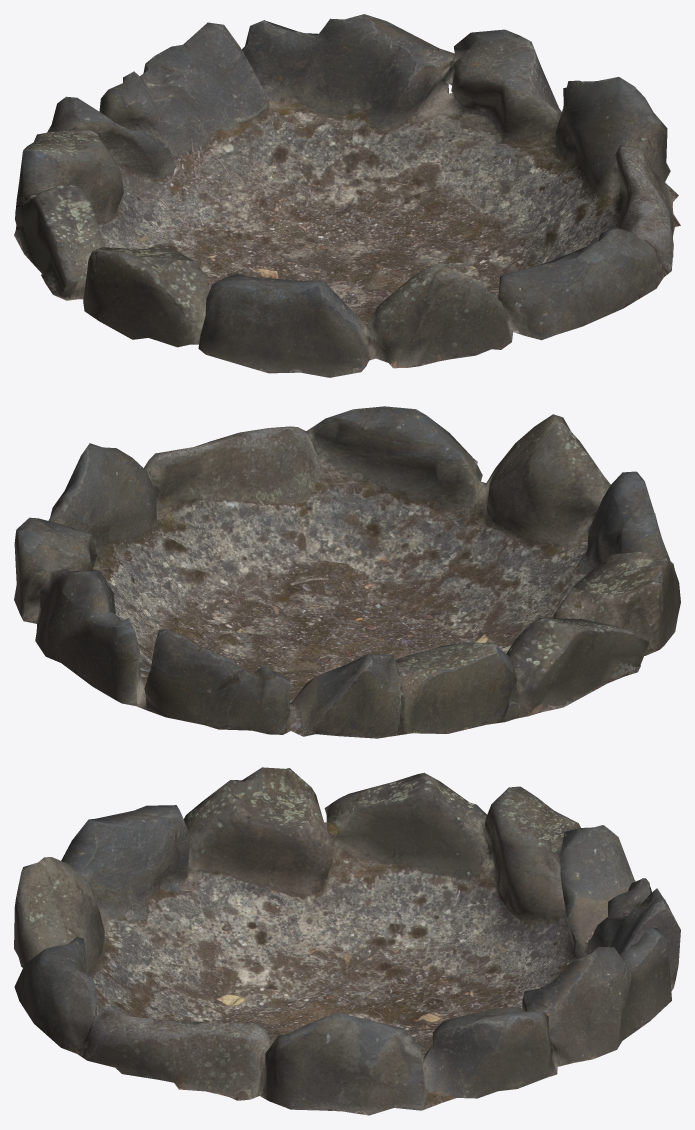
The model's file is stone_fire_pit_lod1.glb.
The picture shows the model from 3 angles, top to bottom: view 1: azimuth 30°, elevation 25°; view 2: azimuth 150°, elevation 25°; view 3: azimuth 270°, elevation 25°; orthographic projection.
Visible parts, largest first — view 1: stone_fire_pit; view 2: stone_fire_pit; view 3: stone_fire_pit.
Part boxes in pixels (x1=…): stone_fire_pit: x1=14, y1=14, x2=680, y2=377; stone_fire_pit: x1=14, y1=406, x2=680, y2=738; stone_fire_pit: x1=14, y1=767, x2=680, y2=1115.
Bounding box in the file's own units: 1.45 × 0.3883 × 1.43.
1 material, 1 textured.
